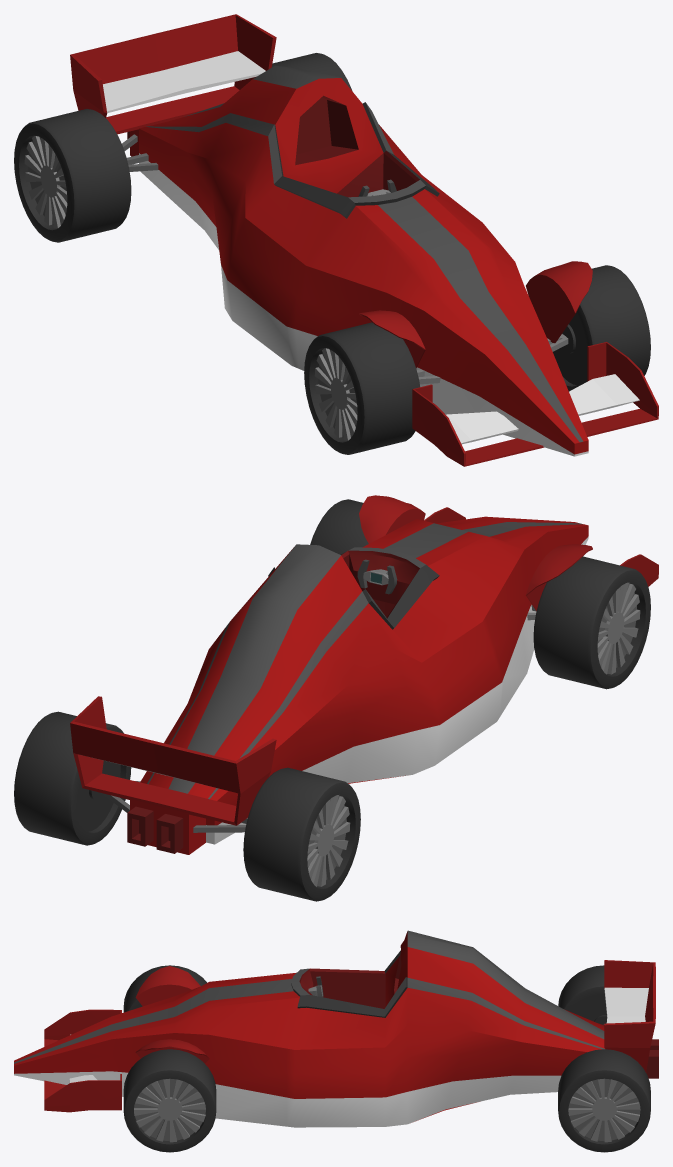
File: formula_car_cc0.glb
3 renders of one model, top to bottom at view 1: azimuth 30°, elevation 25°; view 2: azimuth 150°, elevation 25°; view 3: azimuth 270°, elevation 25°, orthographic. The views are drawn at different scales.
Visible parts, largest first — view 1: body, RearRightTire, FrontRightTire, FrontLeftTire, RearLeftTire; view 2: body, RearRightTire, FrontRightTire, RearLeftTire, FrontLeftTire; view 3: body, FrontLeftTire, RearLeftTire, RearRightTire, FrontRightTire.
Boxes of the visible parts, <box> form: body: <box>70,14,658,466</box>; RearRightTire: <box>14,109,131,242</box>; FrontRightTire: <box>304,322,419,454</box>; FrontLeftTire: <box>553,265,650,391</box>; RearLeftTire: <box>272,53,352,91</box>; body: <box>70,495,658,854</box>; RearRightTire: <box>243,767,360,901</box>; FrontRightTire: <box>533,556,650,689</box>; RearLeftTire: <box>14,711,131,845</box>; FrontLeftTire: <box>310,499,368,554</box>; body: <box>14,930,658,1127</box>; FrontLeftTire: <box>123,1049,216,1152</box>; RearLeftTire: <box>558,1049,650,1152</box>; RearRightTire: <box>558,965,607,1024</box>; FrontRightTire: <box>123,965,206,1012</box>.
Bounding box in the file's own units: 1.17 × 0.8554 × 3.02.
1 material, 1 textured.
